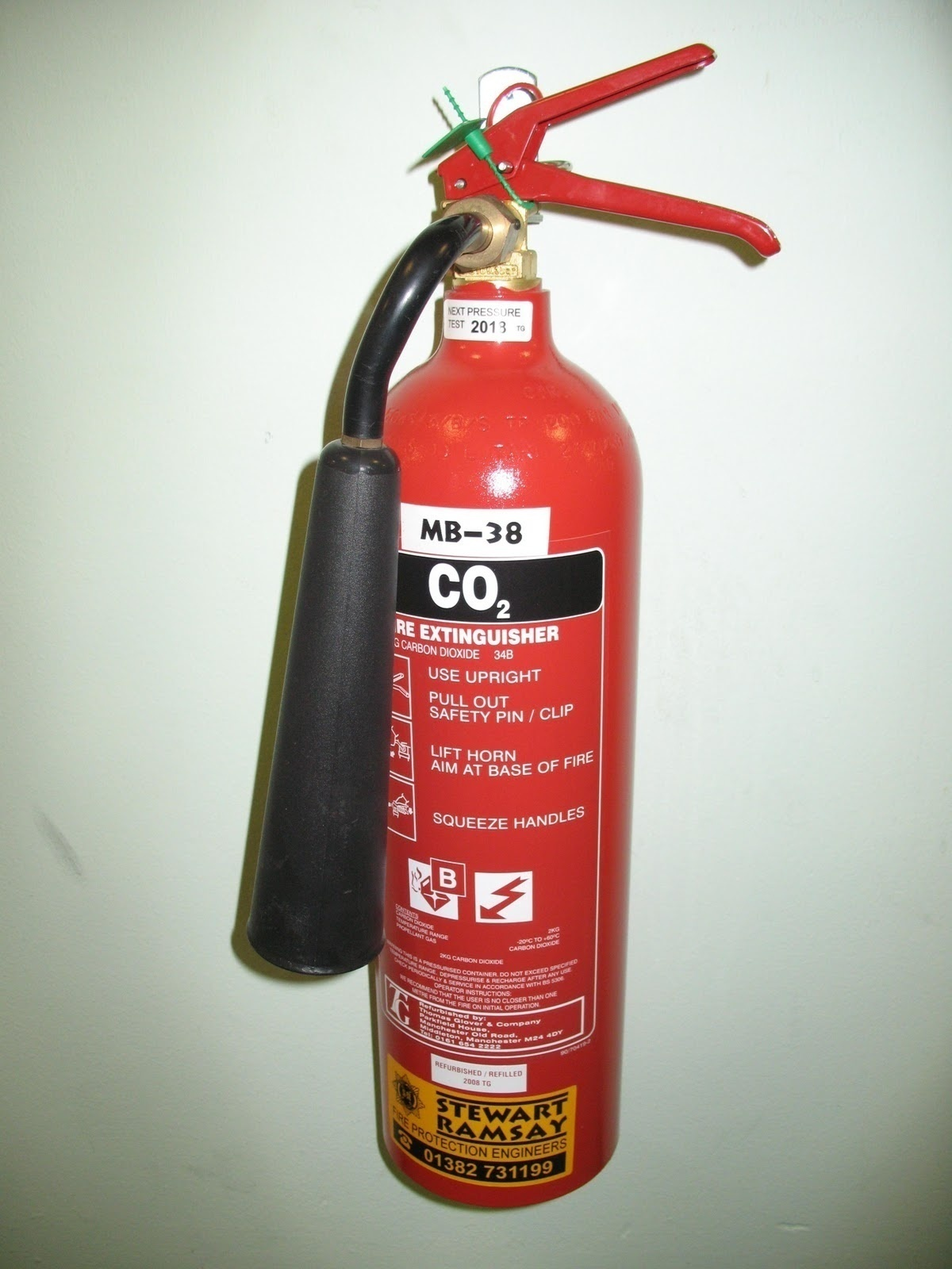fire_extinguisher: (246, 42, 781, 1210)
